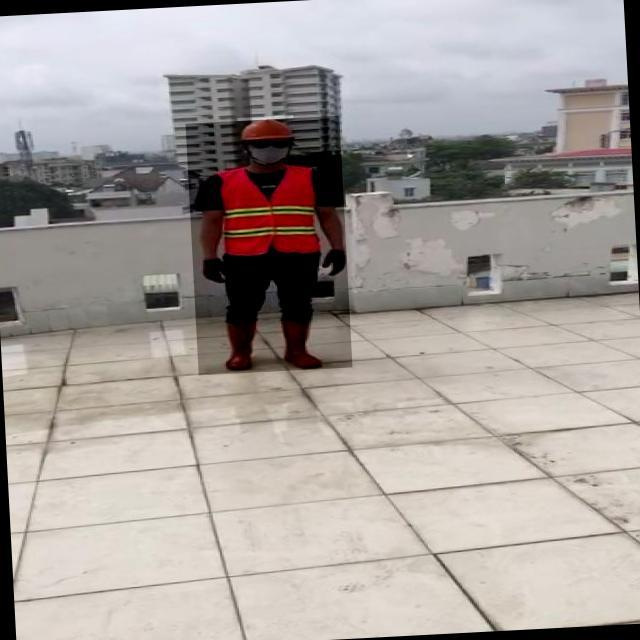Gloves: (322, 248, 346, 277), (203, 258, 228, 284)
Helmet: (238, 115, 295, 141)
Human: (186, 116, 353, 376)
Safety Boot: (282, 317, 323, 370), (222, 318, 261, 371)
Safety Vest: (222, 166, 320, 258)
